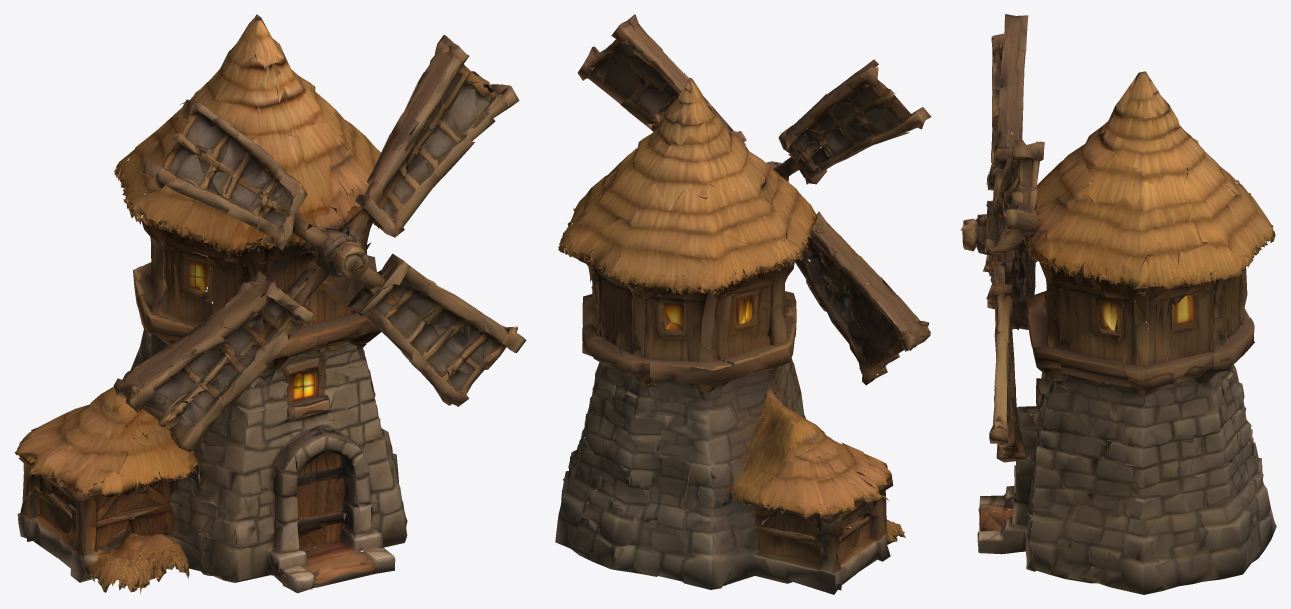
The model's file is Windmill_Haven_town.glb.
3 renders of one model, left to right at view 1: azimuth 30°, elevation 25°; view 2: azimuth 150°, elevation 25°; view 3: azimuth 270°, elevation 25°, orthographic. The views are drawn at different scales.
Parts seen in each view (by area): view 1: Windmill_Haven; view 2: Windmill_Haven; view 3: Windmill_Haven.
Boxes of the visible parts, box(x1,y1,x2,y2) form: Windmill_Haven: box(14, 14, 526, 593); Windmill_Haven: box(555, 14, 931, 594); Windmill_Haven: box(960, 14, 1276, 594).
Bounding box in the file's own units: 1.73 × 2.01 × 1.25.
1 material, 1 textured.
